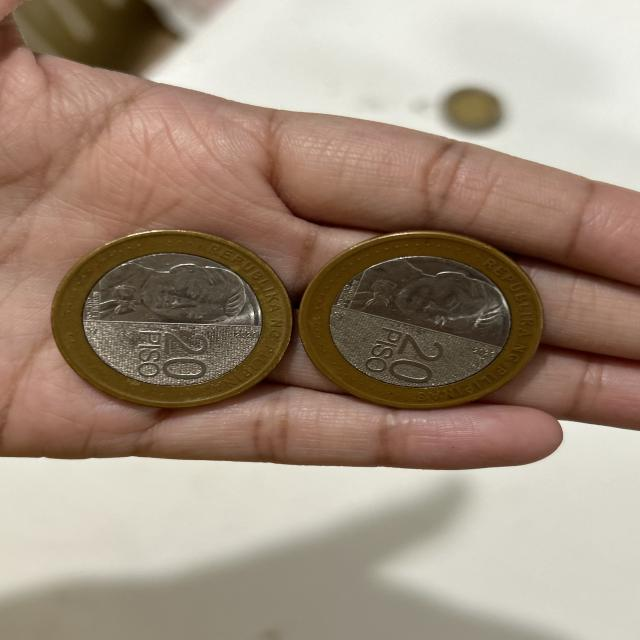20_New_Front: (351, 320, 452, 392), (128, 319, 214, 389)
